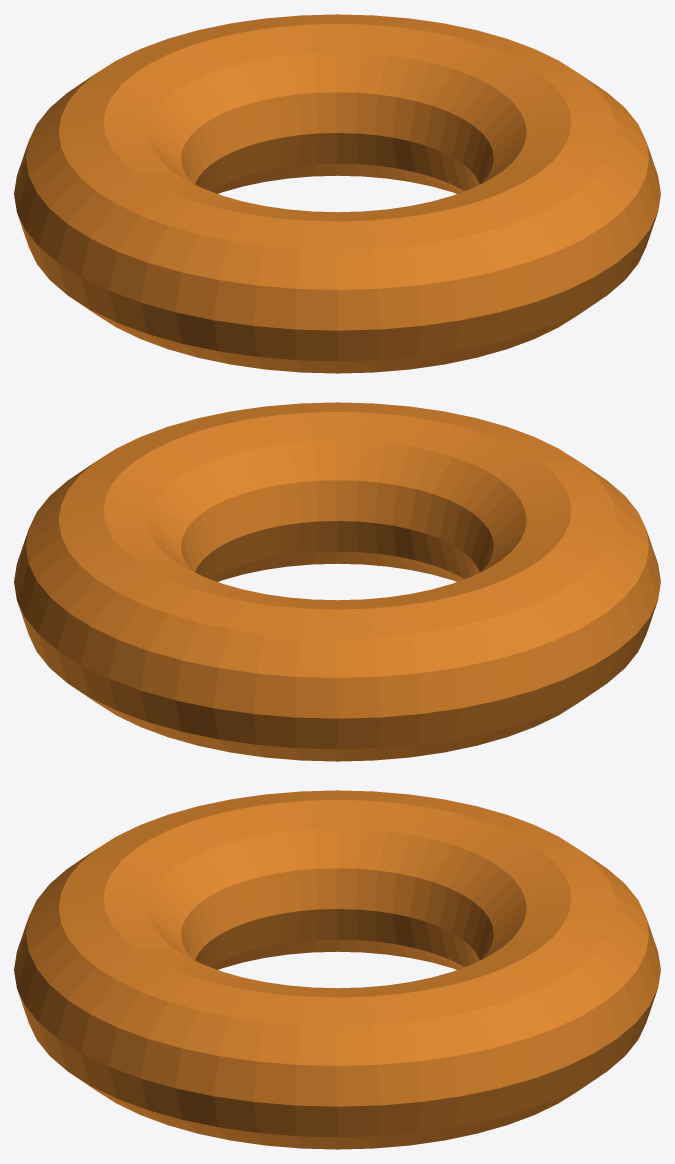
File: Scripting practice .glb
3 renders of one model, top to bottom at view 1: azimuth 30°, elevation 25°; view 2: azimuth 150°, elevation 25°; view 3: azimuth 270°, elevation 25°, orthographic.
Visible parts, largest first — view 1: Torus; view 2: Torus; view 3: Torus.
Boxes of the visible parts, x1,y1,x2,y2 form: Torus: [14, 14, 660, 373]; Torus: [14, 402, 660, 761]; Torus: [14, 790, 660, 1149].
Size of the model in its own units: 0.74 by 0.18 by 0.74.
